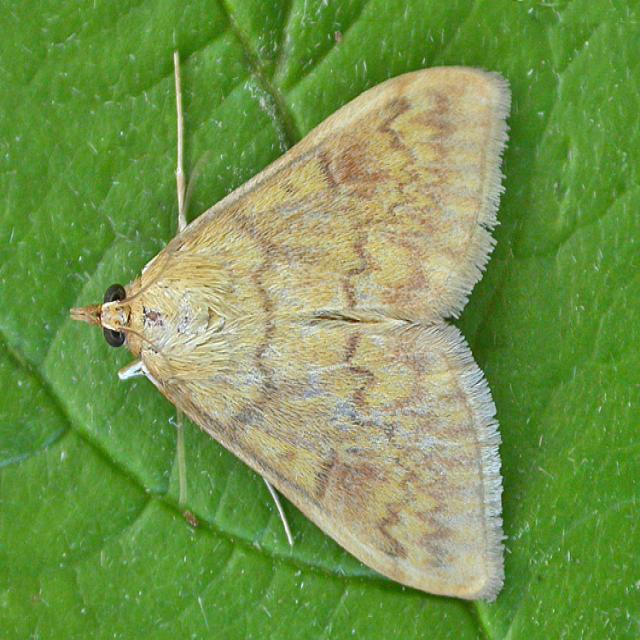cornborer-Adult-: (62, 34, 529, 612)
